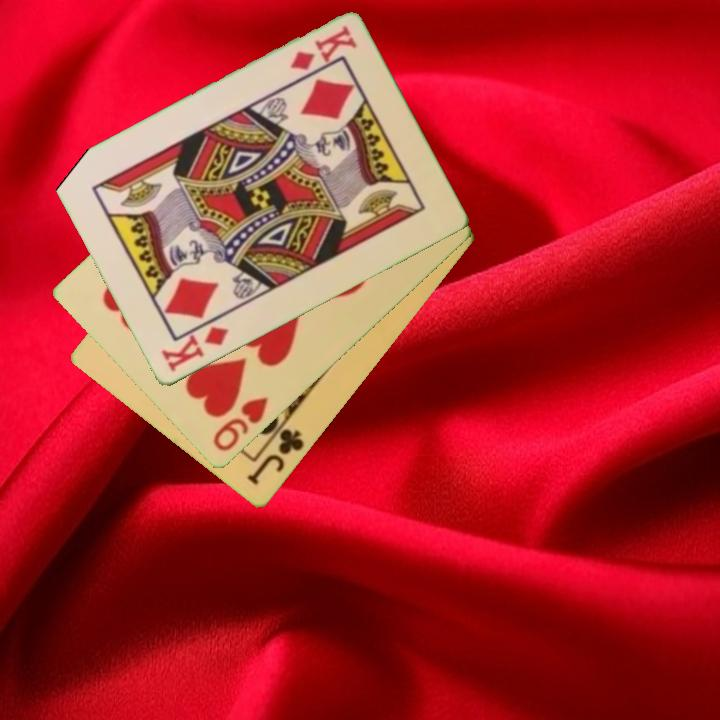9h: (209, 393, 272, 455)
Jc: (243, 425, 308, 489)
Kd: (157, 323, 232, 375), (286, 22, 359, 75)
